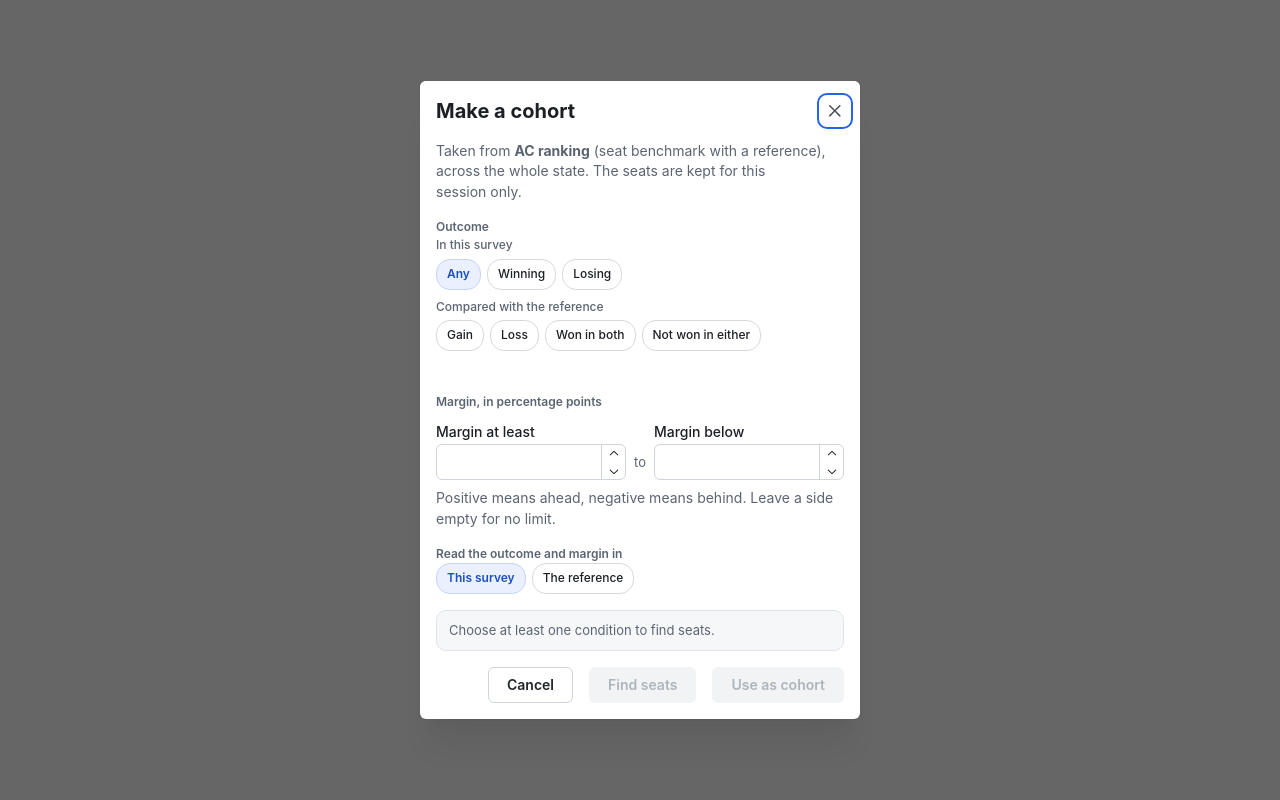
Test: CohortDialog › the outcome is one choice: picking a change since the reference replaces a standing
Click the radio button labelled "Winning": (522, 274) [487,259,556,290]
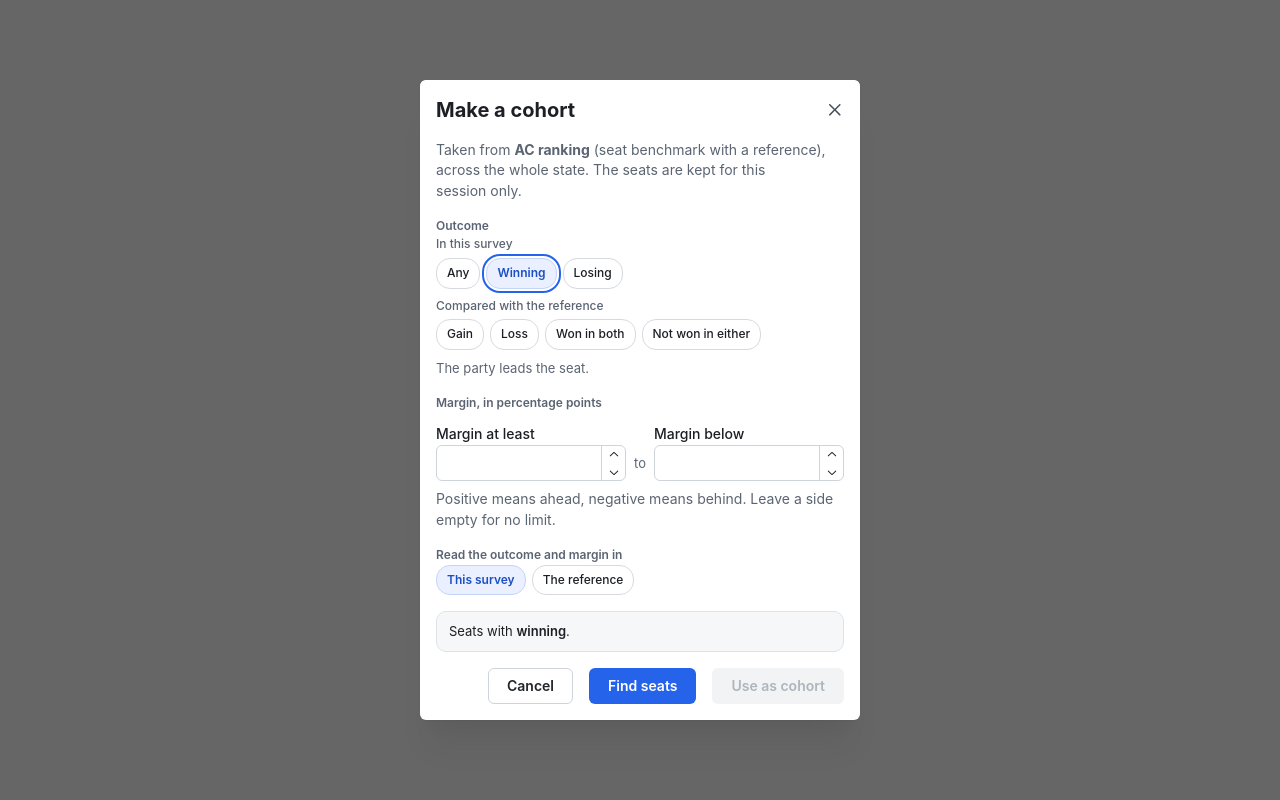
Check: the radio button labelled "Winning" is checked, box [486,258,557,289]
Click the radio button labelled "Gain": (460, 335) [436,319,484,350]
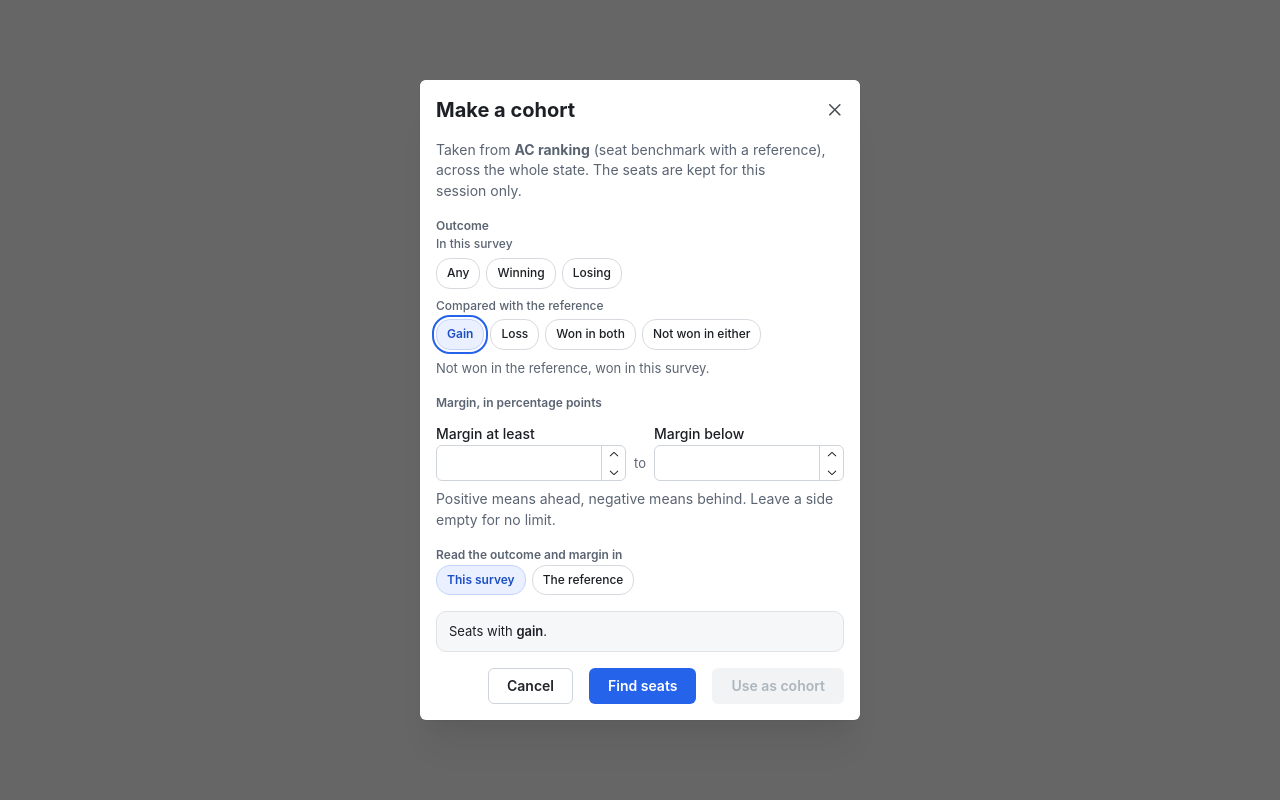
Check: the radio button labelled "Gain" is checked, box [436,319,484,350]
Check: the radio button labelled "Winning" is not checked, box [486,258,556,289]
Check: the text "Not won in the reference, won in this survey." is shown, box [436,360,710,376]
